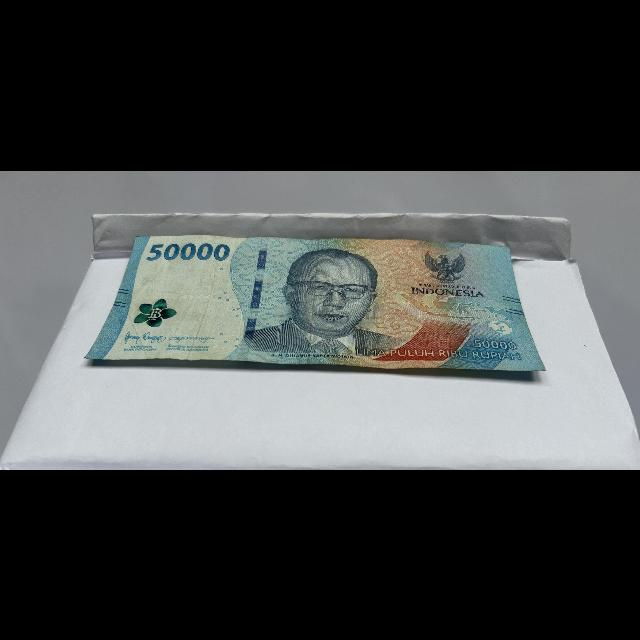Asli-50k: (79, 231, 554, 379)
Tinta-Asli-50k: (132, 294, 180, 330)
